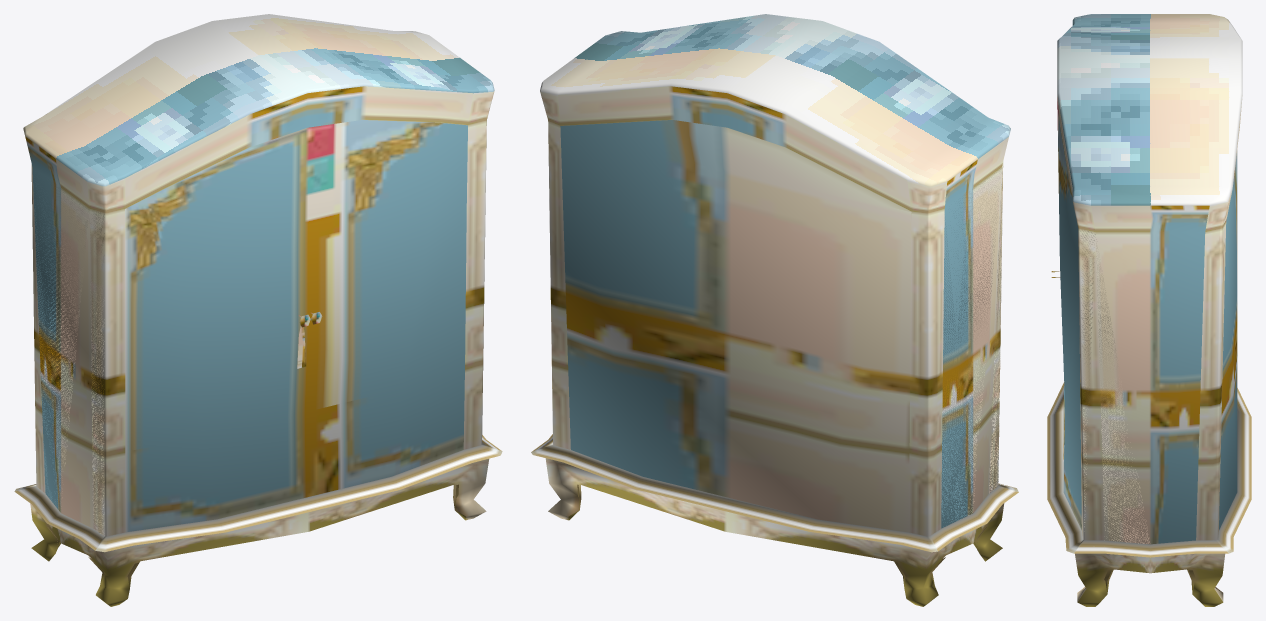
Rendered from int_pri_curio.dae.
The picture shows the model from 3 angles, left to right: view 1: azimuth 30°, elevation 25°; view 2: azimuth 150°, elevation 25°; view 3: azimuth 270°, elevation 25°; orthographic projection. The views are drawn at different scales.
Visible parts, largest first — view 1: int_pri_curio; view 2: int_pri_curio; view 3: int_pri_curio.
Boxes of the visible parts, left/top/right/bottom form: int_pri_curio: left=14, top=14, right=502, bottom=606; int_pri_curio: left=531, top=14, right=1018, bottom=606; int_pri_curio: left=1047, top=14, right=1251, bottom=606.
Bounding box in the file's own units: 51.4 × 56 × 22.4.
3 materials, 3 textured.
